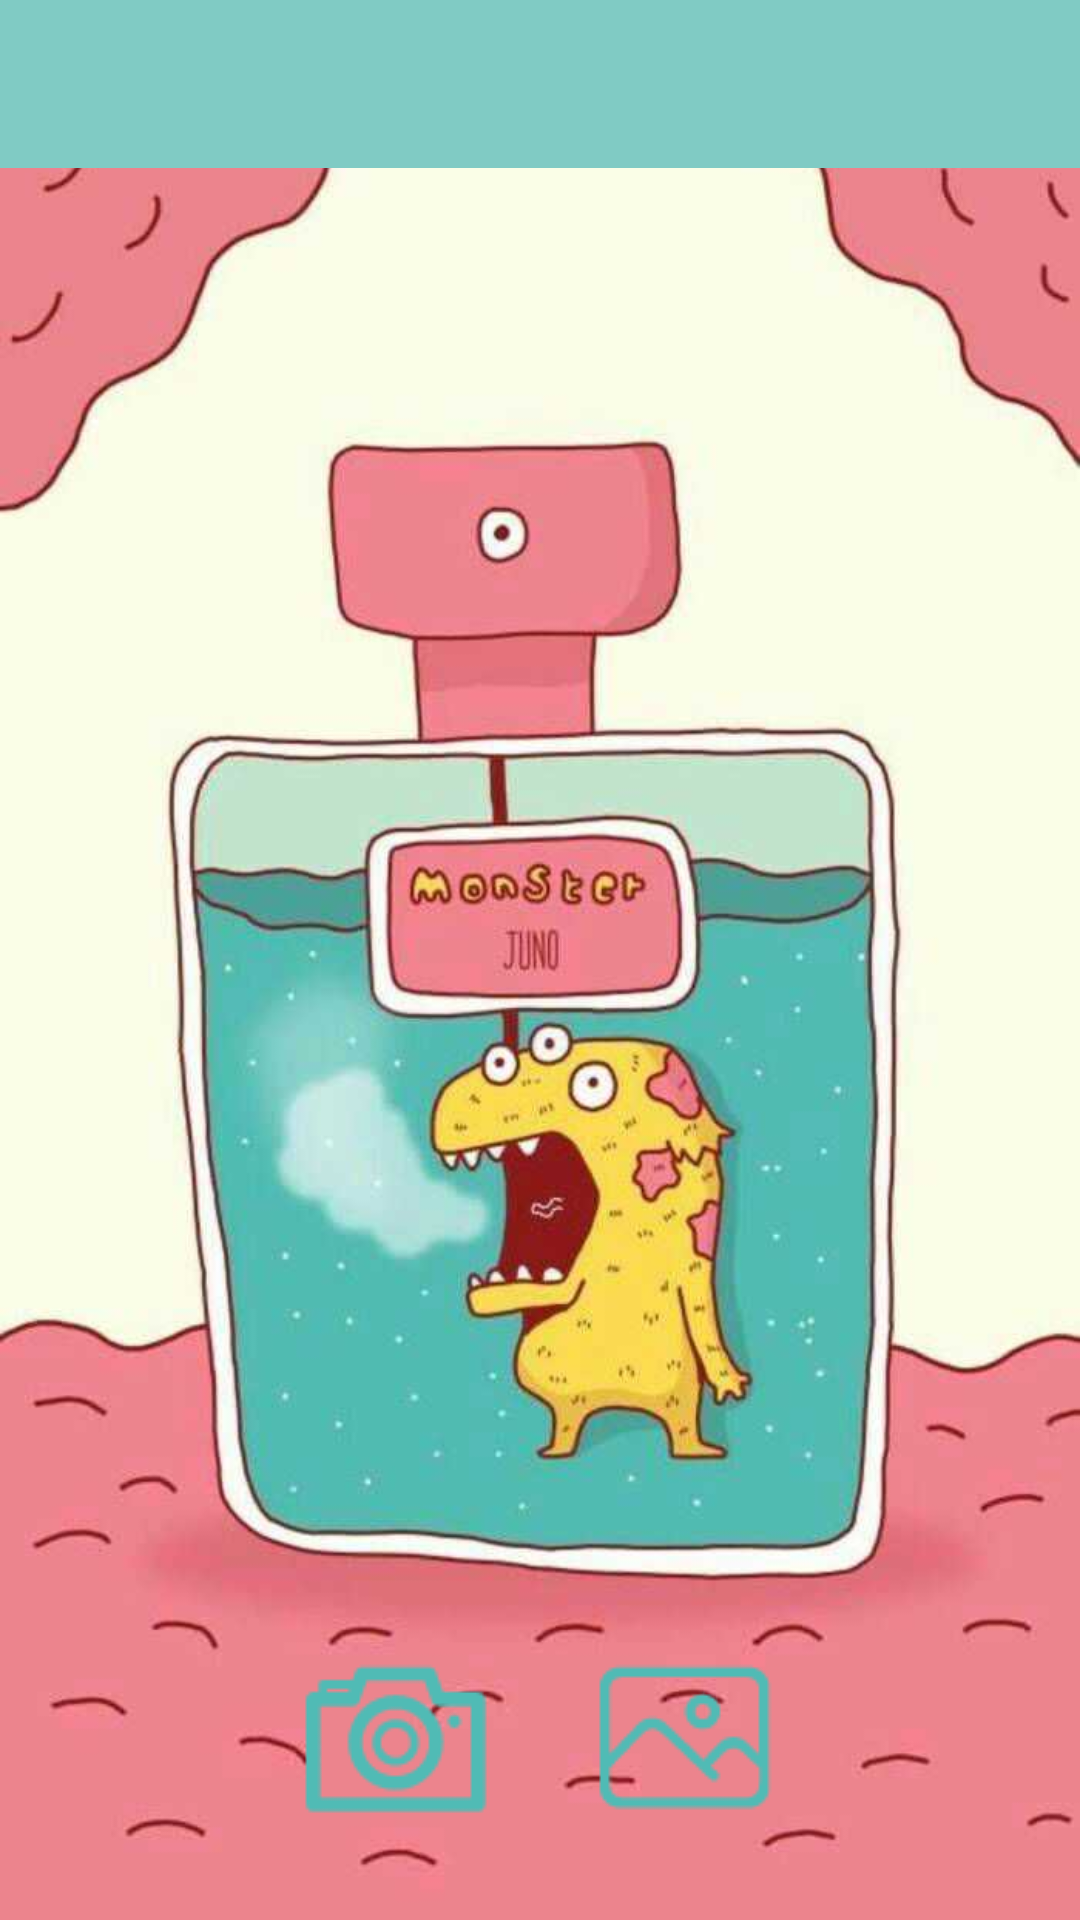

Icons on this 1080 x 1920 Android screen, each with its box as region(x1, y1, x2, y2):
choose from album: region(588, 1641, 771, 1810)
take photo: region(300, 1641, 492, 1813)
